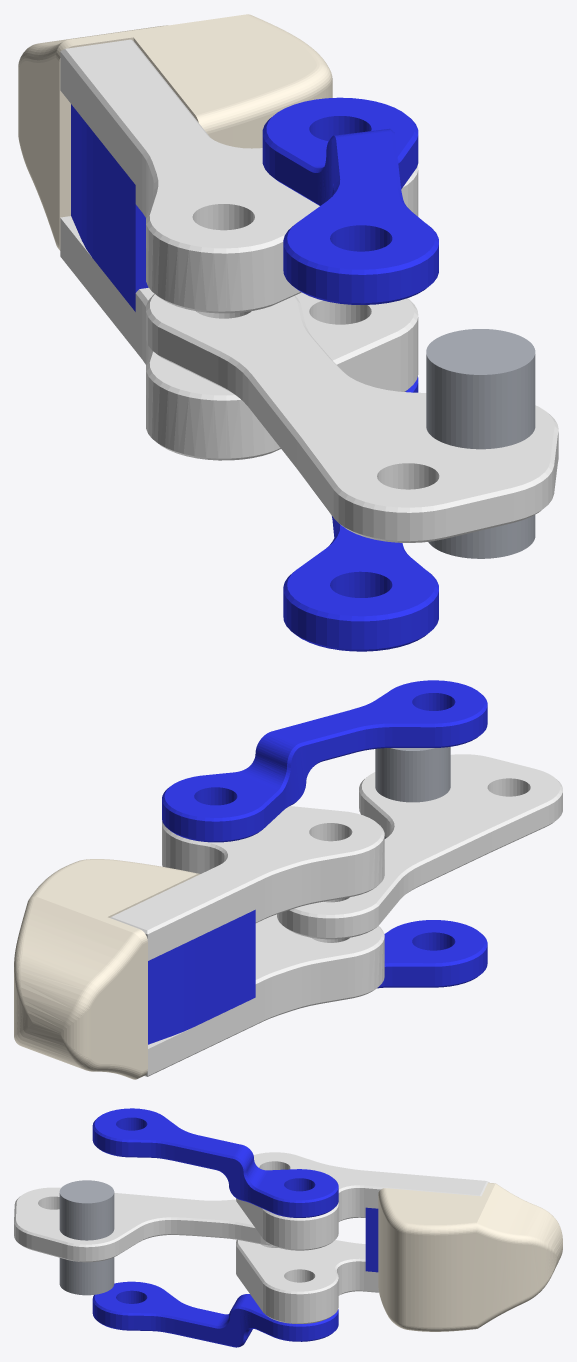
File: finger_top.dae
The picture shows the model from 3 angles, top to bottom: view 1: azimuth 30°, elevation 25°; view 2: azimuth 150°, elevation 25°; view 3: azimuth 270°, elevation 25°; orthographic projection. The views are drawn at different scales.
Visible parts, largest first — view 1: d-hand-finger-top_-_plate4-4_plate4-1, d-hand-finger-top_-_plate5-5, d-hand-finger-top_-_plate6-4_plate6_rabbor-1, d-hand-finger-top_-_plate4-4_plate4_support-2; view 2: d-hand-finger-top_-_plate4-4_plate4-1, d-hand-finger-top_-_plate5-5, d-hand-finger-top_-_plate6-4_plate6_rabbor-1, d-hand-finger-top_-_plate4-4_plate4_support-2; view 3: d-hand-finger-top_-_plate4-4_plate4-1, d-hand-finger-top_-_plate6-4_plate6_rabbor-1, d-hand-finger-top_-_plate5-5, d-hand-finger-top_-_plate4-4_plate4_support-2.
Part boxes in pixels (x1,y1,x2,y2): d-hand-finger-top_-_plate4-4_plate4-1: [60, 39, 558, 542]; d-hand-finger-top_-_plate5-5: [71, 97, 438, 651]; d-hand-finger-top_-_plate6-4_plate6_rabbor-1: [18, 14, 332, 250]; d-hand-finger-top_-_plate4-4_plate4_support-2: [426, 329, 535, 558]; d-hand-finger-top_-_plate4-4_plate4-1: [110, 754, 562, 1076]; d-hand-finger-top_-_plate5-5: [148, 680, 487, 1044]; d-hand-finger-top_-_plate6-4_plate6_rabbor-1: [14, 859, 200, 1079]; d-hand-finger-top_-_plate4-4_plate4_support-2: [375, 747, 450, 838]; d-hand-finger-top_-_plate4-4_plate4-1: [14, 1152, 489, 1323]; d-hand-finger-top_-_plate6-4_plate6_rabbor-1: [378, 1182, 562, 1331]; d-hand-finger-top_-_plate5-5: [92, 1108, 378, 1347]; d-hand-finger-top_-_plate4-4_plate4_support-2: [59, 1180, 114, 1295].
Size of the model in its own units: 0.0261 by 0.0704 by 0.027.
